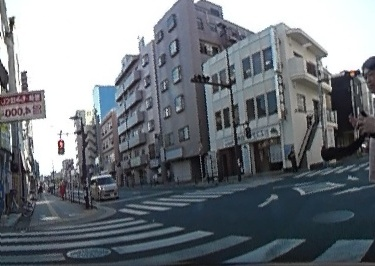person: (357, 55, 375, 266), (288, 150, 296, 172)
